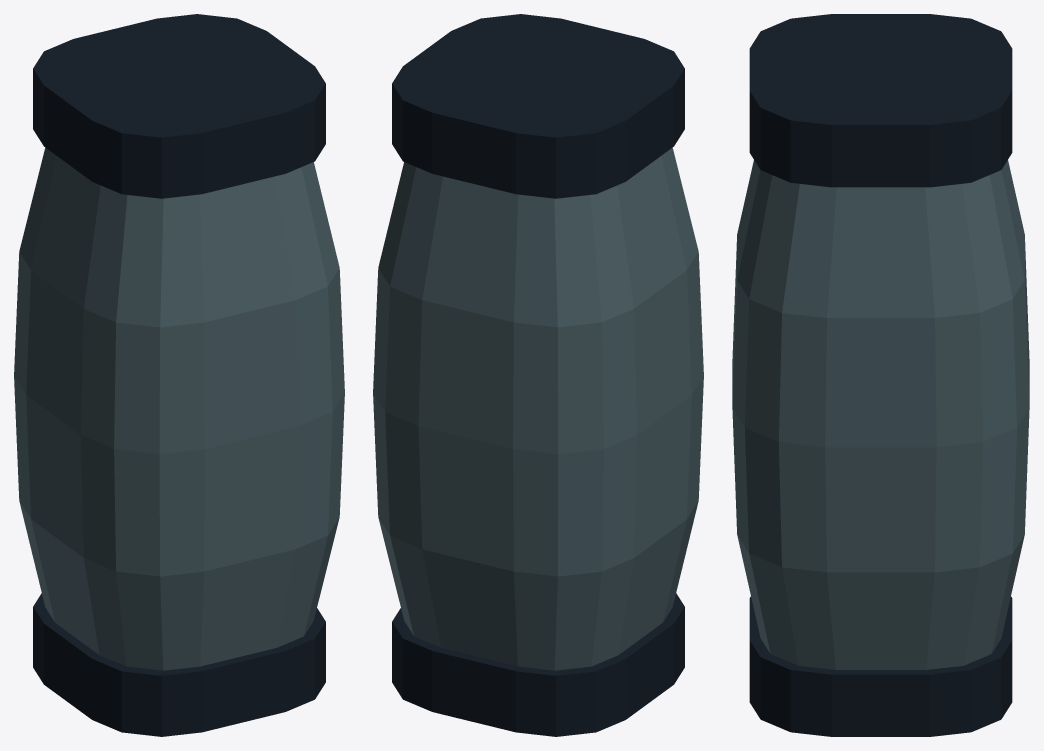
File: (Msh)Flashbang.fbx
3 views of the same model, side by side, from view 1: azimuth 30°, elevation 25°; view 2: azimuth 150°, elevation 25°; view 3: azimuth 270°, elevation 25° (orthographic). The views are drawn at different scales.
Visible parts, largest first — view 1: flashbang; view 2: flashbang; view 3: flashbang.
Boxes of the visible parts, <box> form: flashbang: <box>14,14,344,736</box>; flashbang: <box>373,14,703,736</box>; flashbang: <box>732,14,1029,736</box>.
Size of the model in its own units: 180 by 409 by 180.
